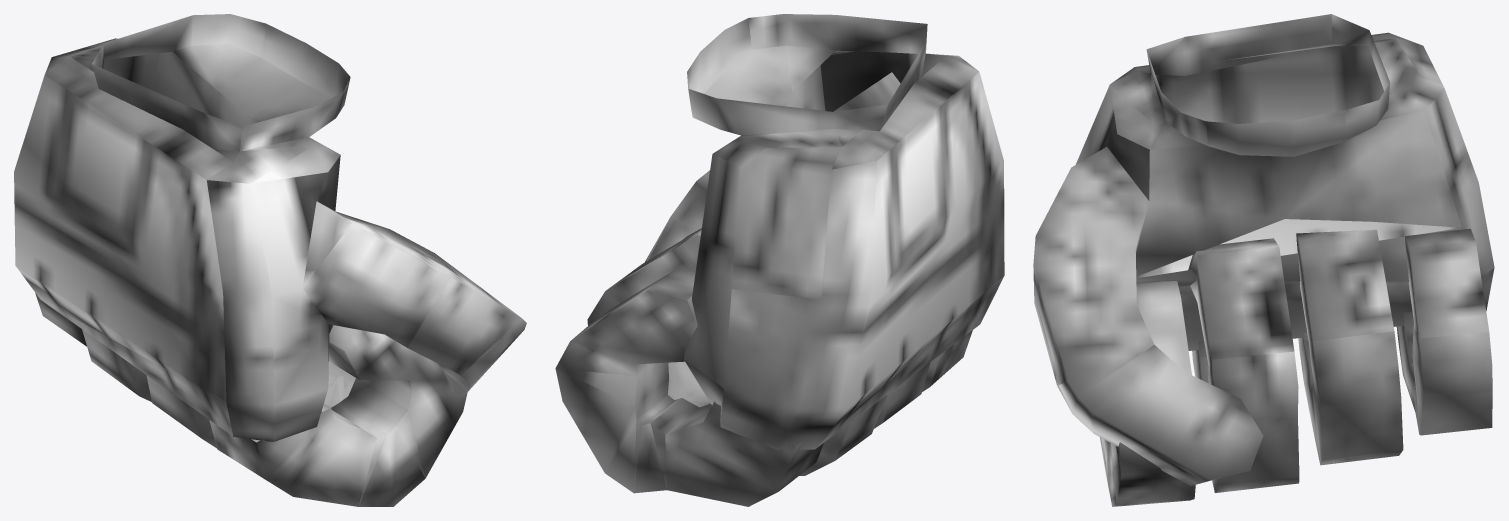
File: r_hand.glb
3 renders of one model, left to right at view 1: azimuth 30°, elevation 25°; view 2: azimuth 150°, elevation 25°; view 3: azimuth 270°, elevation 25°, orthographic. The views are drawn at different scales.
Parts seen in each view (by area): view 1: r_hand; view 2: r_hand; view 3: r_hand.
Boxes of the visible parts, bbox=[...] form: r_hand: bbox=[14, 14, 526, 506]; r_hand: bbox=[555, 14, 1004, 506]; r_hand: bbox=[1033, 14, 1494, 506].
Size of the model in its own units: 0.2761 by 0.3095 by 0.3222.
Materials: 3 (3 with a texture image).
